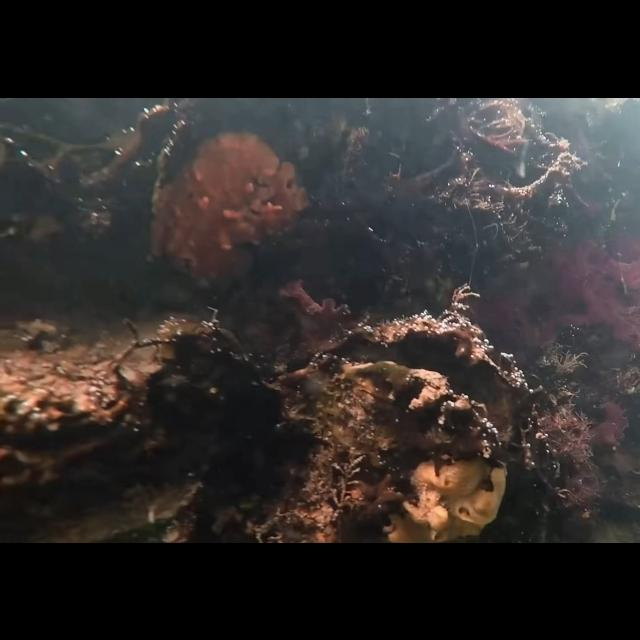Oyster-Closed: (148, 118, 310, 296)
Oyster-Open: (282, 312, 516, 542), (0, 310, 216, 491), (36, 462, 206, 542)
